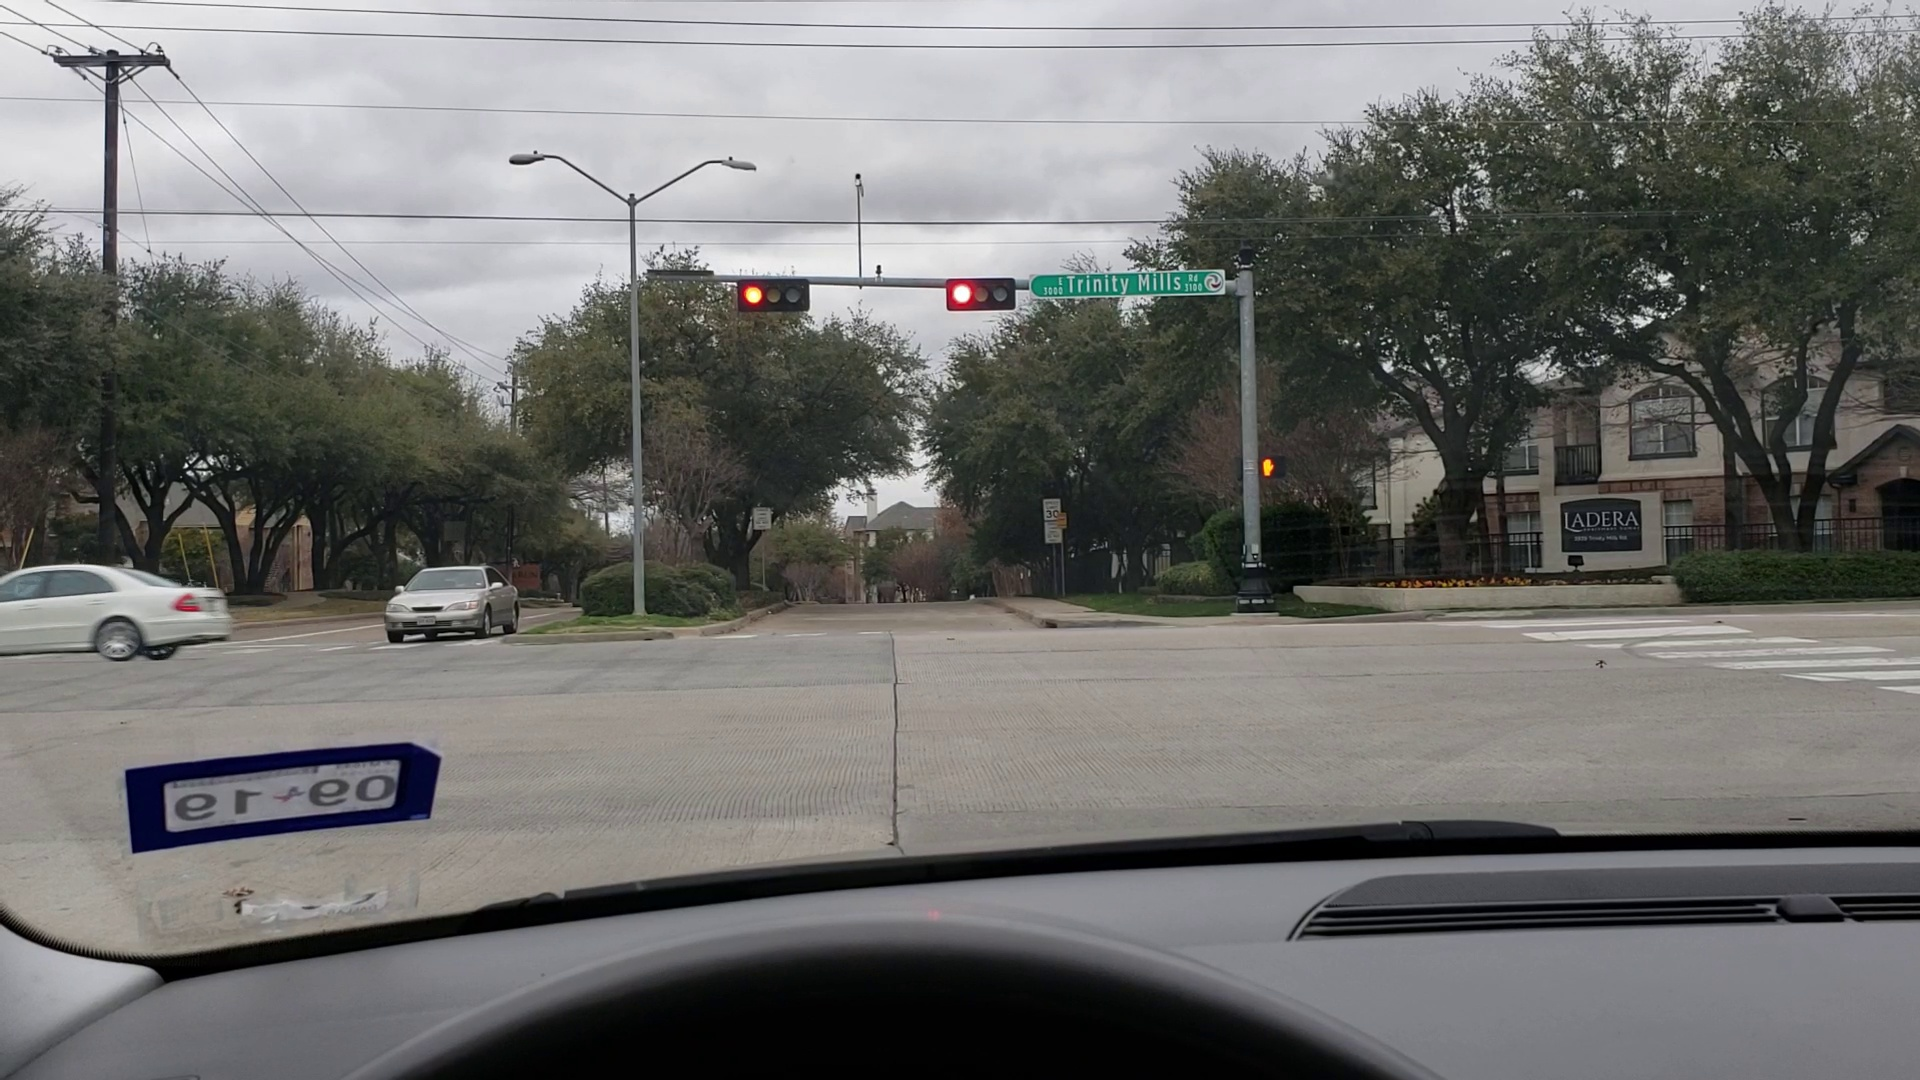car: (3, 564, 237, 662), (381, 566, 524, 644)
traffic light: (731, 280, 811, 311), (949, 278, 1019, 313)
